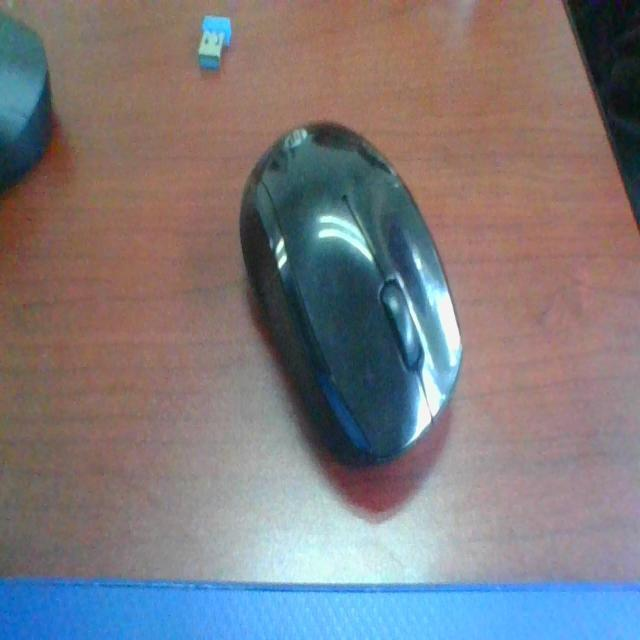Mouse: (243, 111, 467, 462)
